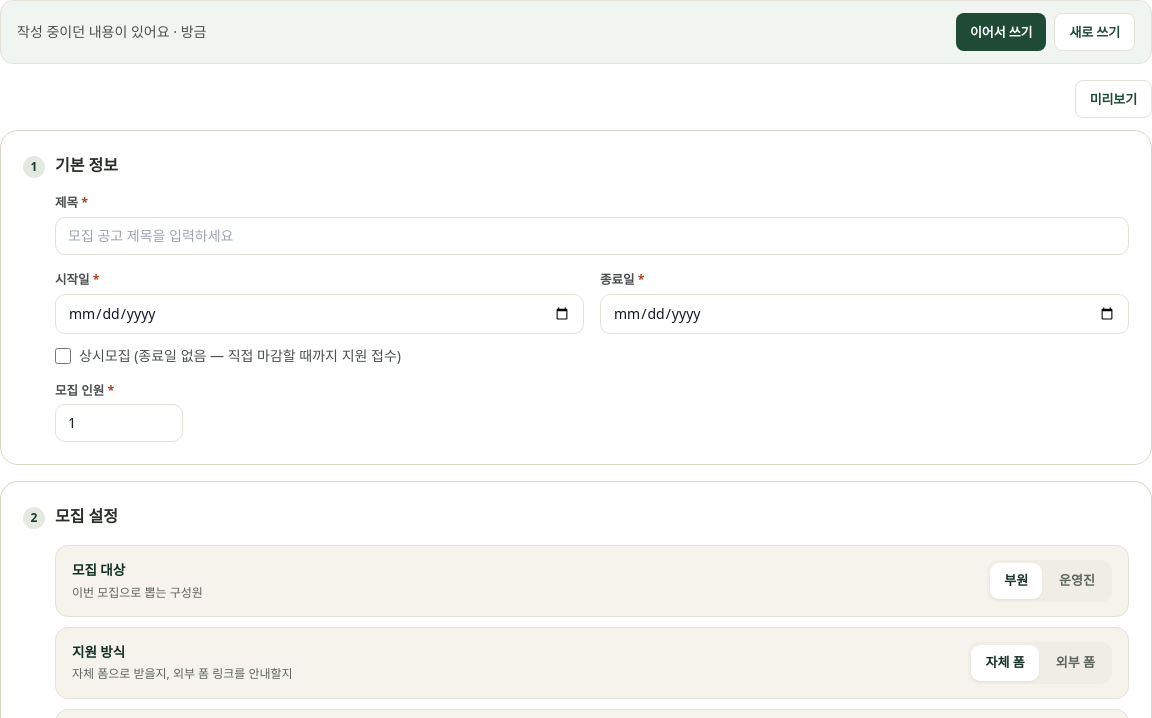
Test: RecruitmentForm 오류 표시 › 임시저장이 있으면 배너가 뜨고 이어서 쓰기로 값이 복원된다
This screenshot has width=1152, height=718.
Click the button "이어서 쓰기".
click(1001, 32)  # box [956,13,1046,51]
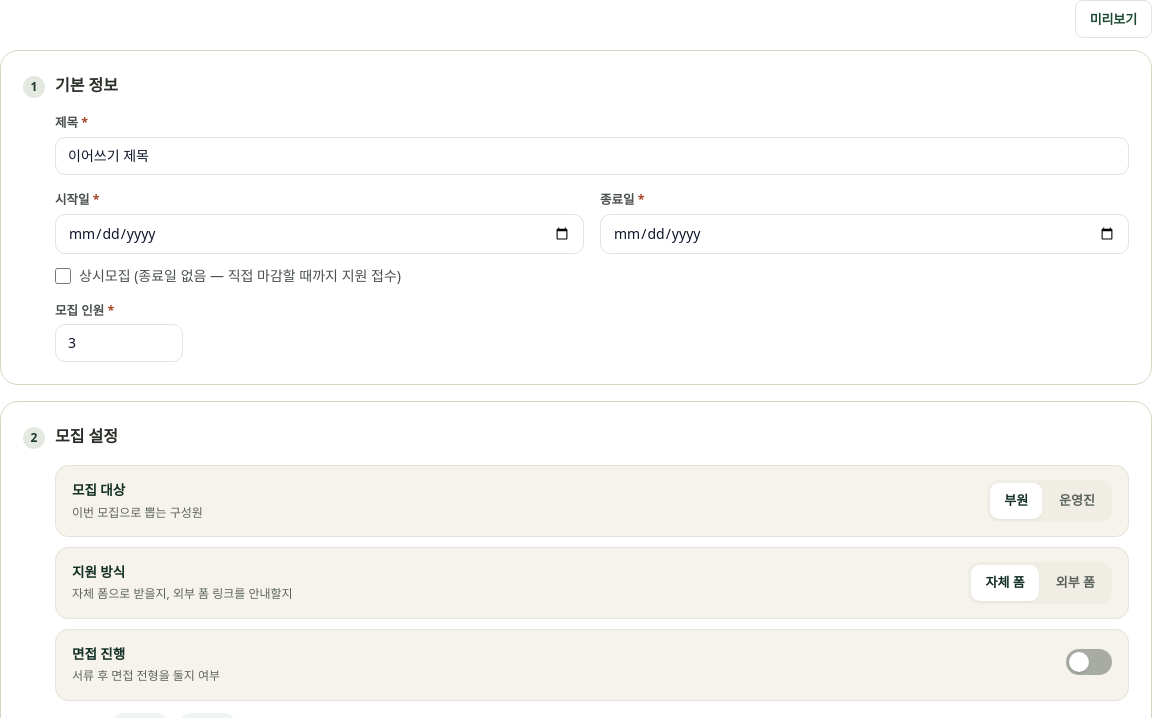
Now the field with placeholder "모집 공고 제목을 입력하세요" holds "이어쓰기 제목", box [55,137,1129,175]
